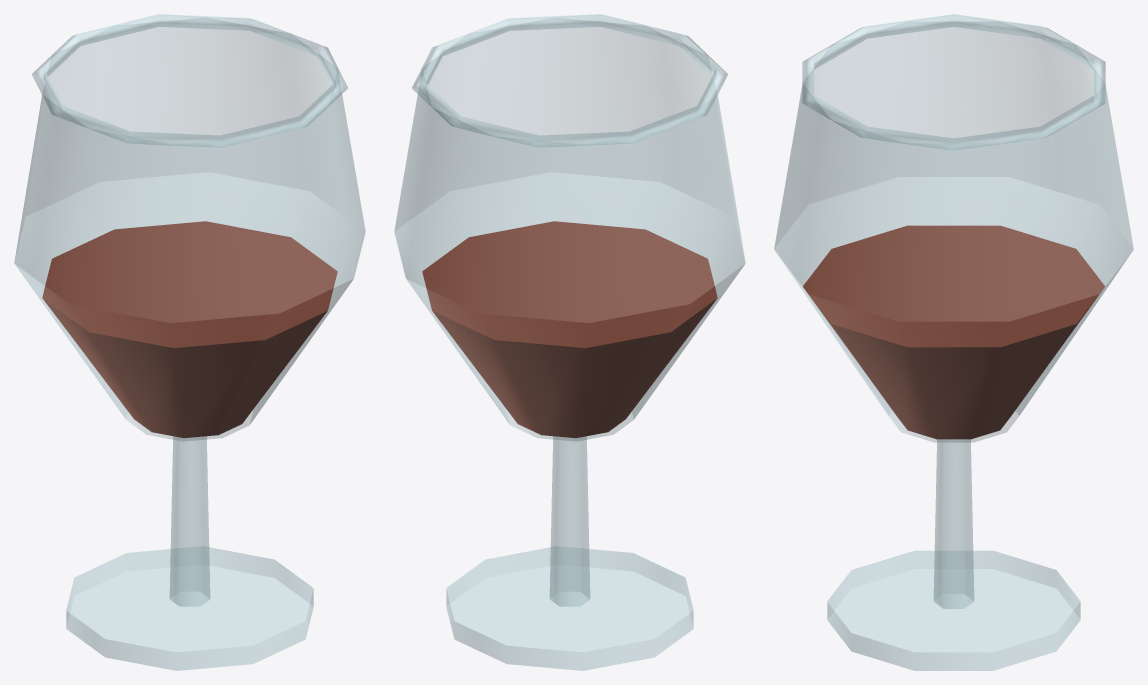
The model's file is sherry.glb.
3 views of the same model, side by side, from view 1: azimuth 30°, elevation 25°; view 2: azimuth 150°, elevation 25°; view 3: azimuth 270°, elevation 25° (orthographic).
Visible parts, largest first — view 1: sherry; view 2: sherry; view 3: sherry.
Part boxes in pixels (bbox=[...]): sherry: bbox=[14, 14, 365, 670]; sherry: bbox=[394, 14, 745, 670]; sherry: bbox=[774, 14, 1133, 670].
Size of the model in its own units: 0.0837 by 0.1467 by 0.088.
